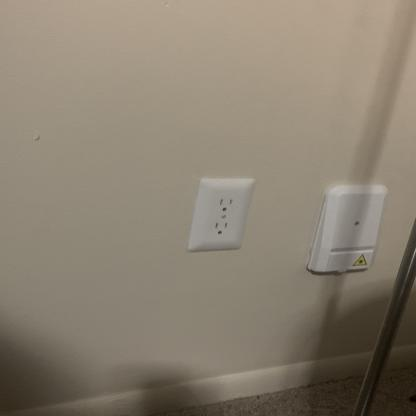OUTLET: (188, 179, 249, 252)
